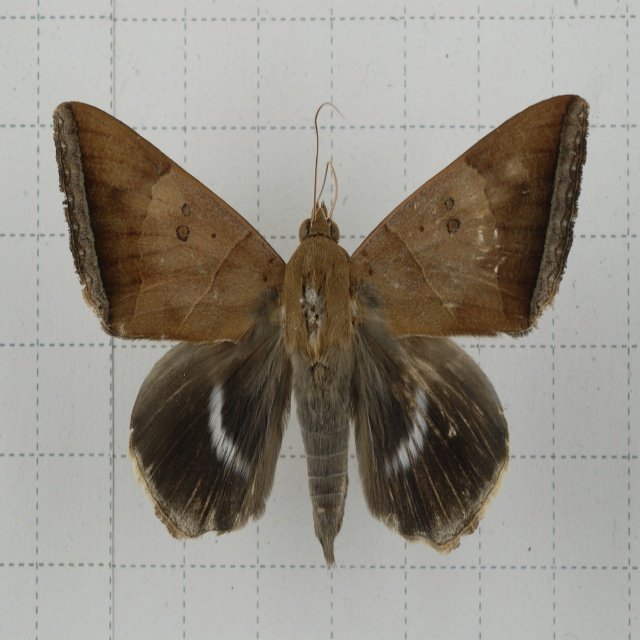Butterfly: (62, 89, 566, 577)
